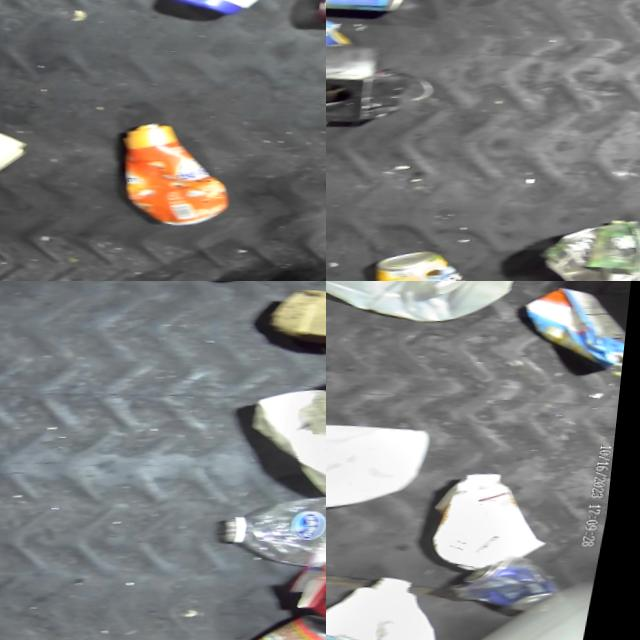can: (469, 562, 564, 627), (386, 246, 489, 281), (326, 0, 419, 23), (241, 615, 326, 640), (186, 281, 271, 289)
milk_jug: (326, 407, 446, 536), (326, 281, 528, 340), (326, 564, 462, 640)
non_white_jug: (530, 295, 633, 383), (528, 213, 640, 281)
plastic_bottle: (223, 489, 326, 591)
